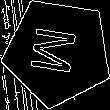M_E: (29, 25, 86, 79)
